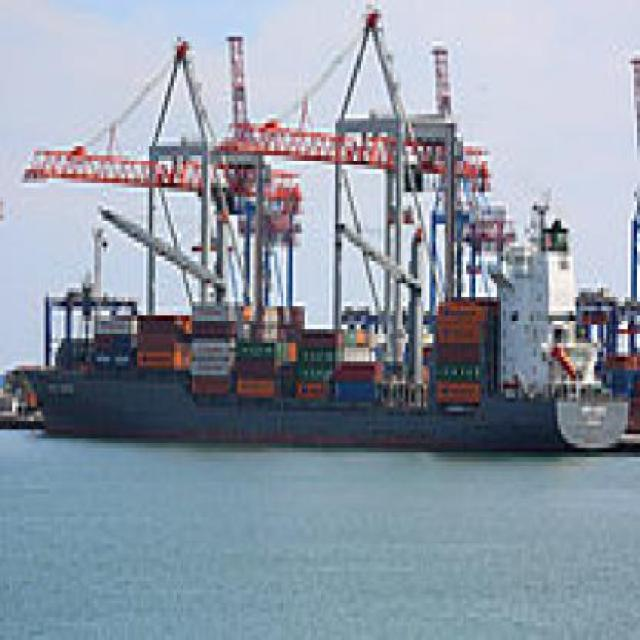container: (16, 6, 638, 472)
